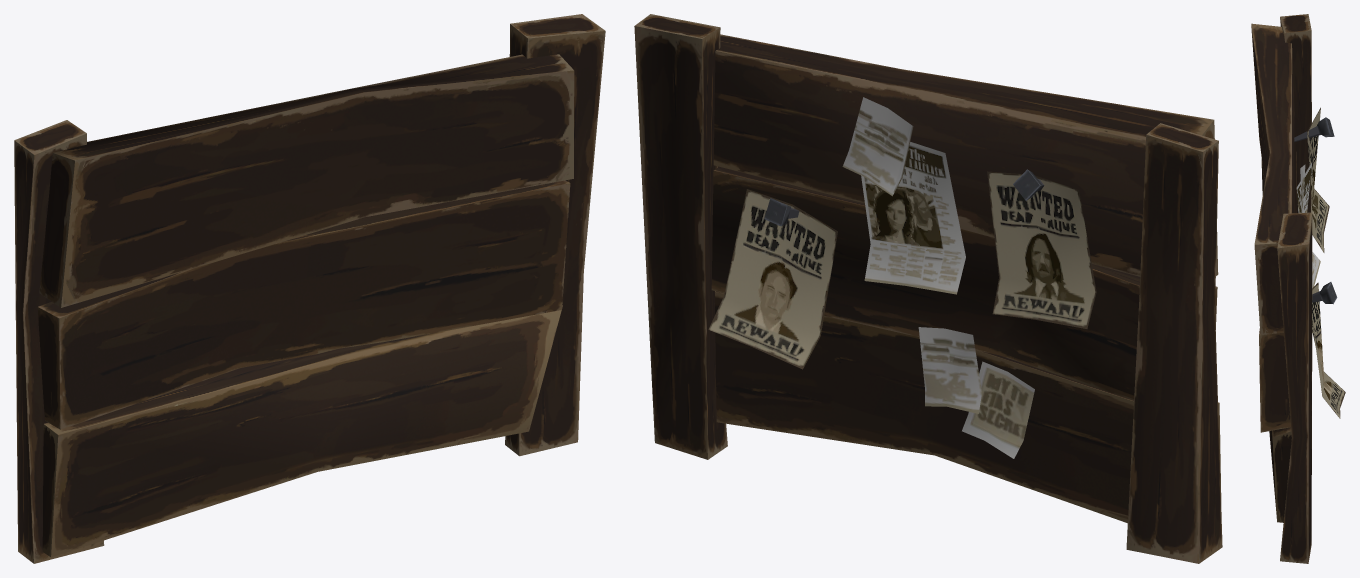
Rendered from SIN0210015.fbx.
The picture shows the model from 3 angles, left to right: view 1: azimuth 30°, elevation 25°; view 2: azimuth 150°, elevation 25°; view 3: azimuth 270°, elevation 25°; orthographic projection. The views are drawn at different scales.
Visible parts, largest first — view 1: smSIN0210015; view 2: smSIN0210015; view 3: smSIN0210015.
Boxes of the visible parts, x1,y1,x2,y2 form: smSIN0210015: (14, 14, 605, 563); smSIN0210015: (634, 14, 1222, 563); smSIN0210015: (1251, 14, 1345, 563).
Size of the model in its own units: 133 by 95.77 by 23.92.
Materials: 1 (1 with a texture image).
